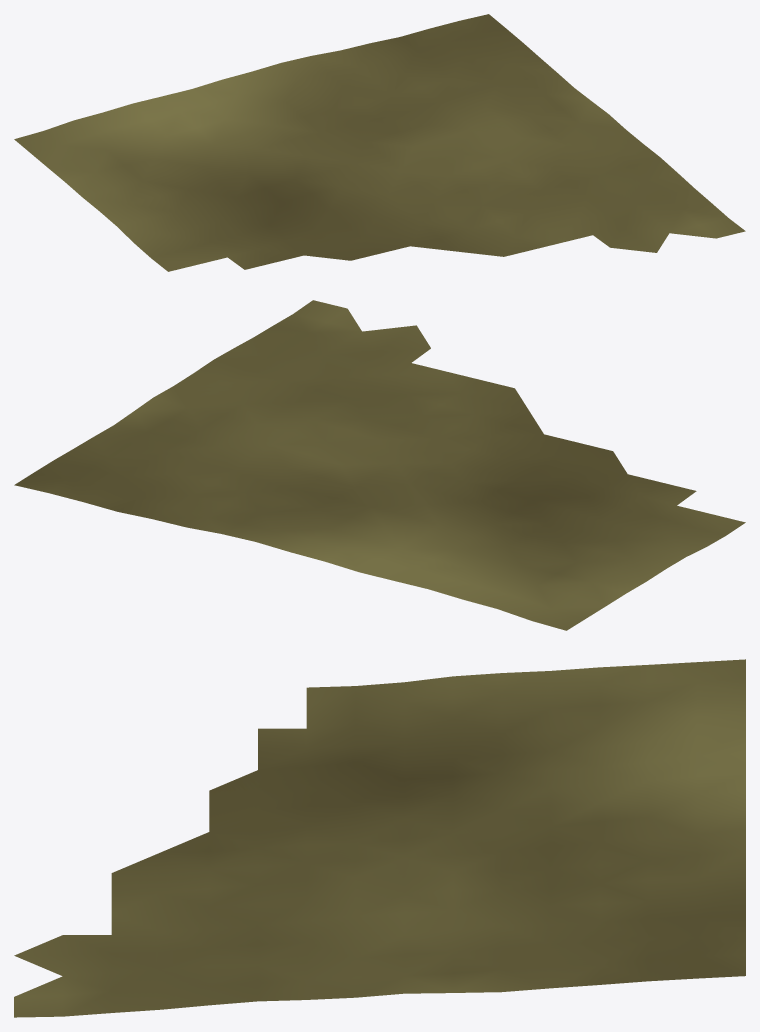
File: terrain_lod1_0_4.obj
The picture shows the model from 3 angles, top to bottom: view 1: azimuth 30°, elevation 25°; view 2: azimuth 150°, elevation 25°; view 3: azimuth 270°, elevation 25°; orthographic projection. The views are drawn at different scales.
Parts seen in each view (by area): view 1: terrain_lod1_0_4; view 2: terrain_lod1_0_4; view 3: terrain_lod1_0_4.
Part boxes in pixels (x1,y1,x2,y2): terrain_lod1_0_4: (14, 14, 745, 271); terrain_lod1_0_4: (14, 300, 745, 630); terrain_lod1_0_4: (14, 659, 745, 1017).
Size of the model in its own units: 128 by 7.98 by 120.
